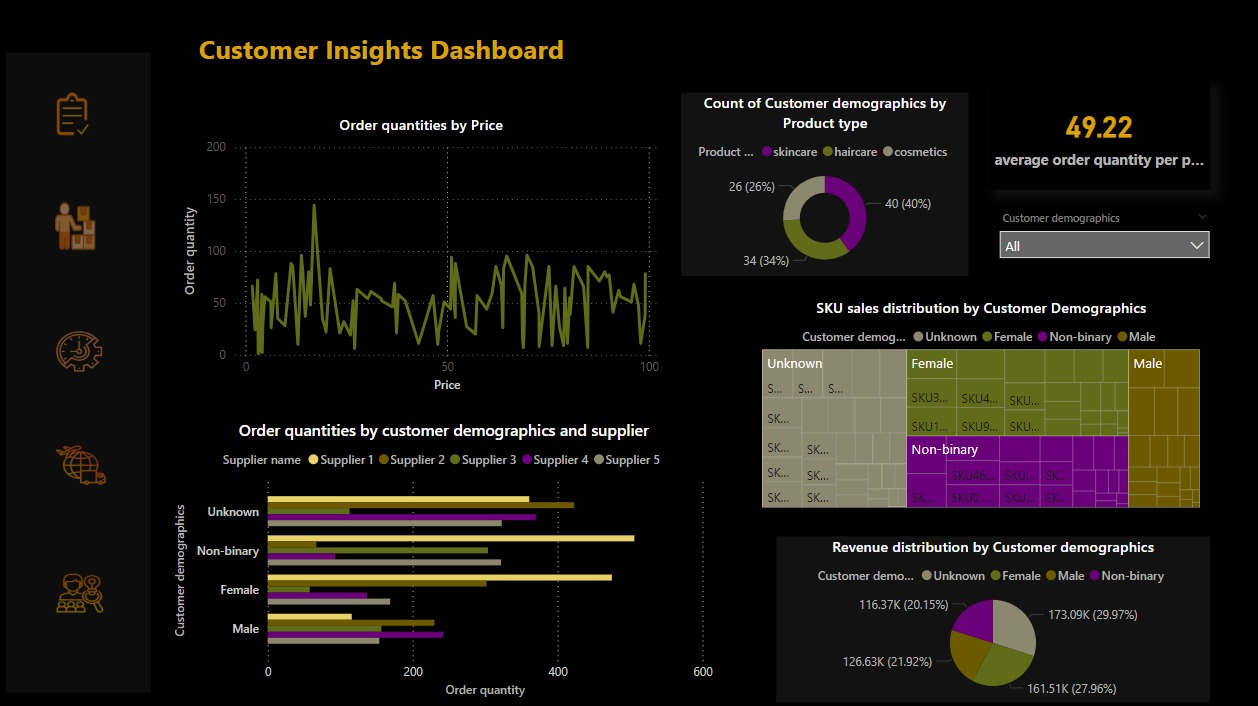

The page's visual inventory and layout, read from the dashboard file:
{"tool":"powerbi","page":{"name":"Customer insights dashboard","canvas":[1280,720],"ordinal":4},"visuals":[{"type":"actionButton","box":[59.4,98.6,37.6,43.9],"z":0,"group":"g1"},{"type":"shape","box":[11.4,58.1,146.6,647.1],"z":0},{"type":"textbox","box":[200.9,31.6,602.8,53.1],"z":1000},{"type":"donutChart","fields":{"Y":["CountNonNull(supply_chain_data (2).Customer demographics)"],"Category":["supply_chain_data (2).Product type"]},"box":[693.8,98.6,290.7,185.8],"z":3000},{"type":"actionButton","box":[60.7,207.3,40.4,53.1],"z":3000,"group":"g1"},{"type":"actionButton","box":[61.9,340,46.8,40.4],"z":4000,"group":"g1"},{"type":"pieChart","title":"Revenue distribution by Customer demographics","fields":{"Y":["Sum(supply_chain_data (2).Revenue generated)"],"Category":["supply_chain_data (2).Customer demographics"]},"box":[789.9,547.2,438.5,168.1],"z":4000},{"type":"card","fields":{"Values":["supply_chain_data (2).average order quantity per person"]},"box":[1004.7,87.2,223.7,110],"z":5000},{"type":"actionButton","box":[60.7,585.2,50.6,39.2],"z":5000,"group":"g1"},{"type":"actionButton","box":[60.7,455,51.8,40.4],"z":6000,"group":"g1"},{"type":"clusteredBarChart","title":"Order quantities by customer demographics and supplier ","fields":{"Category":["supply_chain_data (2).Customer demographics"],"Y":["Sum(supply_chain_data (2).Order quantities)"],"Series":["supply_chain_data (2).Supplier name"]},"box":[176.9,428.4,553.6,286.9],"z":6000},{"type":"lineChart","title":" Order quantities by Price","fields":{"Category":["supply_chain_data (2).Price"],"Y":["Sum(supply_chain_data (2).Order quantities)"]},"box":[185.8,120.1,490.4,286.9],"z":7000},{"type":"treemap","title":"SKU sales distribution by Customer Demographics","fields":{"Group":["supply_chain_data (2).Customer demographics"],"Values":["Sum(supply_chain_data (2).Number of products sold)"],"Details":["supply_chain_data (2).SKU"]},"box":[770.9,305.8,452.5,217.4],"z":7001},{"type":"slicer","fields":{"Values":["supply_chain_data (2).Customer demographics"]},"box":[1004.7,212.3,233.8,72],"z":7002},{"type":"group","id":"g1","title":"Group 1","box":[59.4,98.6,53.1,525.8],"z":7003}]}

Visuals, with their boxes on the page's 1280x720 design canvas (x1, y1, x2, y2). These are canvas units, not pixel positions in the 1258x706 screenshot, which may show the page scaled, cropped or inside an application window:
actionButton: [x1=59, y1=99, x2=97, y2=142]
shape: [x1=11, y1=58, x2=158, y2=705]
textbox: [x1=201, y1=32, x2=804, y2=85]
donutChart - CountNonNull(supply_chain_data (2).Customer demographics) x supply_chain_data (2).Product type: [x1=694, y1=99, x2=984, y2=284]
actionButton: [x1=61, y1=207, x2=101, y2=260]
actionButton: [x1=62, y1=340, x2=109, y2=380]
"Revenue distribution by Customer demographics" pieChart: [x1=790, y1=547, x2=1228, y2=715]
card - supply_chain_data (2).average order quantity per person: [x1=1005, y1=87, x2=1228, y2=197]
actionButton: [x1=61, y1=585, x2=111, y2=624]
actionButton: [x1=61, y1=455, x2=112, y2=495]
"Order quantities by customer demographics and supplier " clusteredBarChart: [x1=177, y1=428, x2=730, y2=715]
" Order quantities by Price" lineChart: [x1=186, y1=120, x2=676, y2=407]
"SKU sales distribution by Customer Demographics" treemap: [x1=771, y1=306, x2=1223, y2=523]
slicer - supply_chain_data (2).Customer demographics: [x1=1005, y1=212, x2=1238, y2=284]
"Group 1" group: [x1=59, y1=99, x2=112, y2=624]
